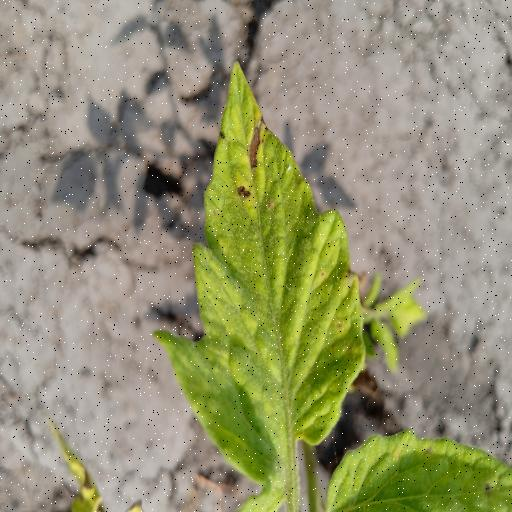Tomato_Brown_Spots: (191, 56, 370, 465)
